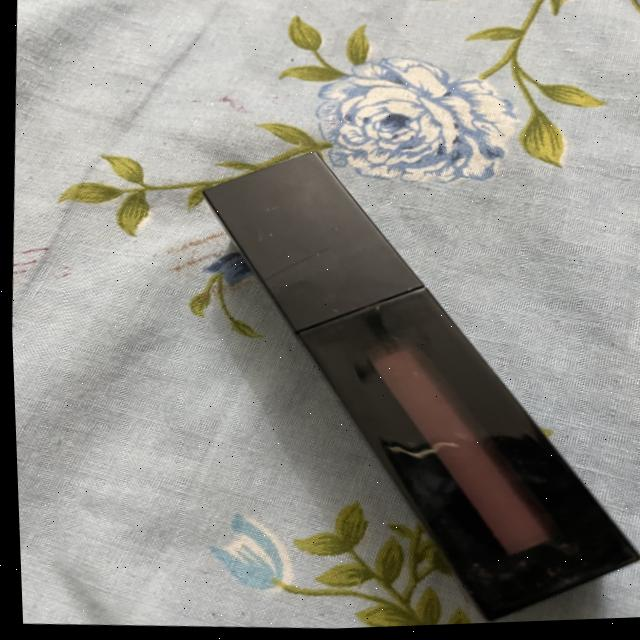lip gloss: (141, 122, 640, 636)
